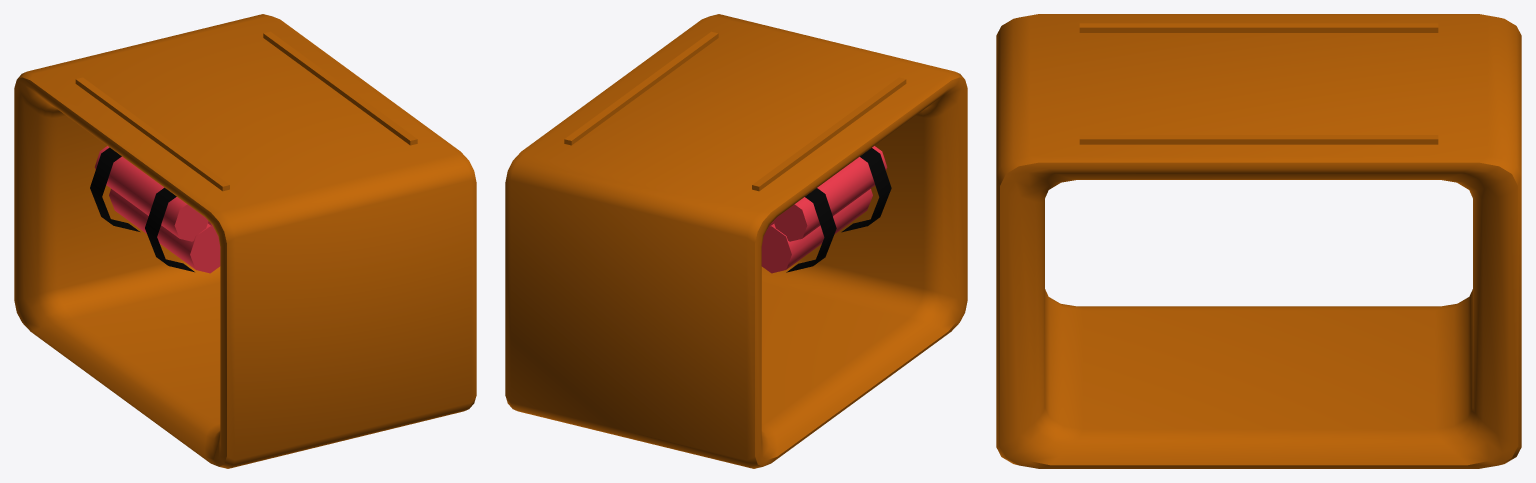
Rendered from BOMB_brick.fbx.
3 renders of one model, left to right at view 1: azimuth 30°, elevation 25°; view 2: azimuth 150°, elevation 25°; view 3: azimuth 270°, elevation 25°, orthographic. The views are drawn at different scales.
Visible parts, largest first — view 1: Cube, Cylinder.002; view 2: Cube, Cylinder.002; view 3: Cube.
Part boxes in pixels (bbox=[...]): Cube: bbox=[14, 14, 476, 468]; Cylinder.002: bbox=[90, 146, 220, 273]; Cube: bbox=[505, 14, 967, 468]; Cylinder.002: bbox=[761, 146, 891, 273]; Cube: bbox=[996, 14, 1521, 468].
Bounding box in the file's own units: 2.75 × 2.69 × 4.04.
